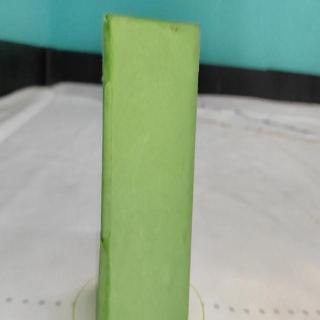greenbox: (97, 9, 205, 319)
